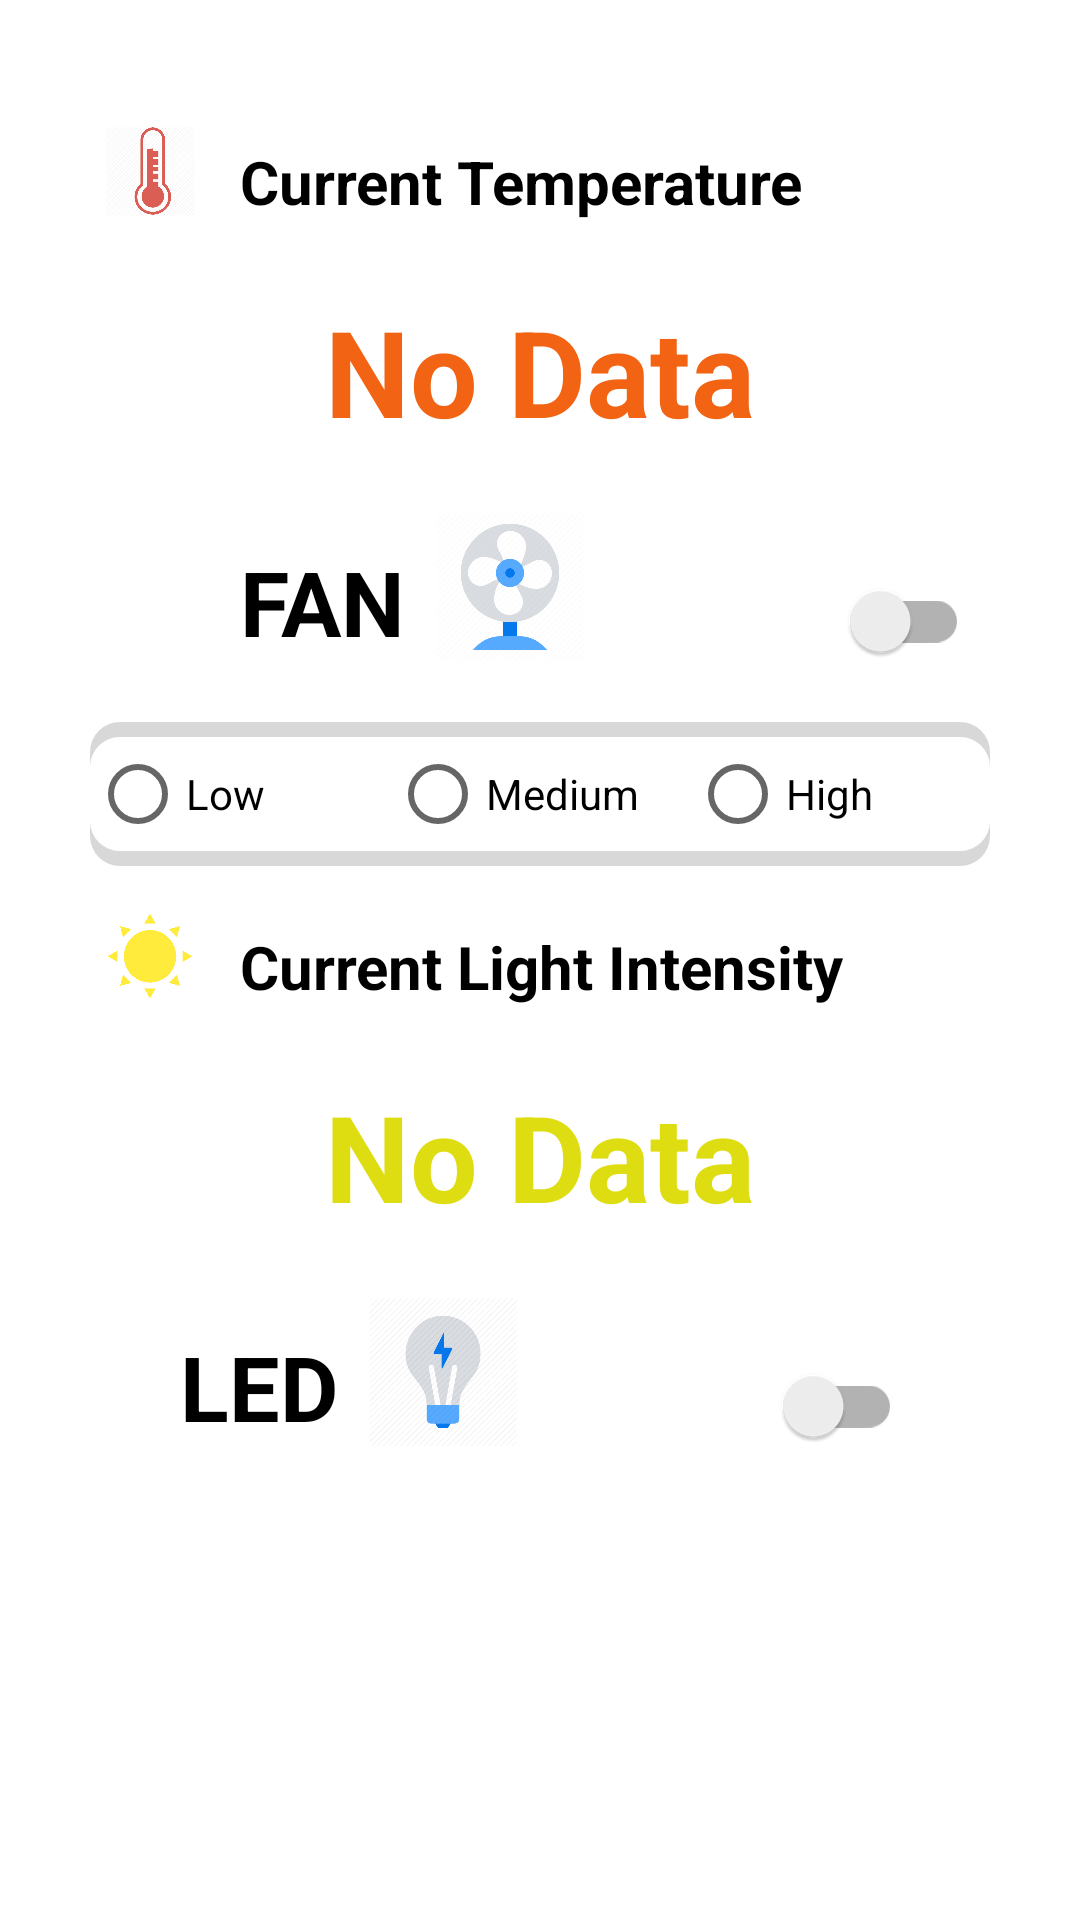

Icon click points for this 1080 × 1920 phone screenshot, format (x=x, y=y):
bulb idea creative: (x=443, y=1372)
fan cooler: (x=510, y=587)
thermometer: (x=152, y=171)
